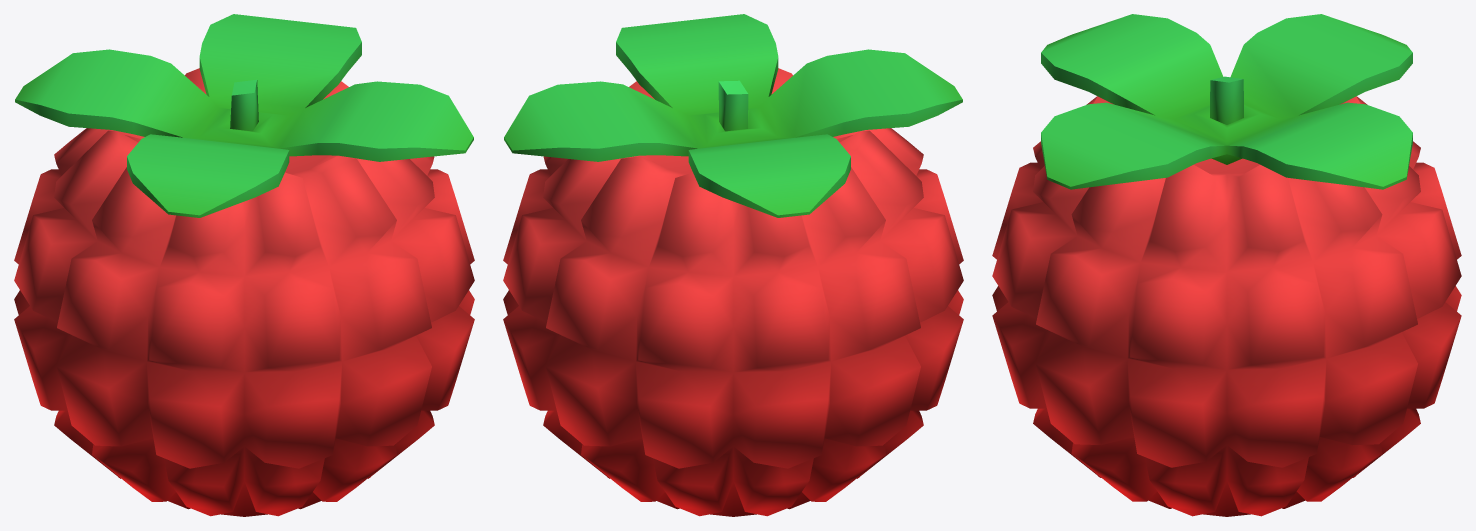
Rendered from raspberry.fbx.
3 views of the same model, side by side, from view 1: azimuth 30°, elevation 25°; view 2: azimuth 150°, elevation 25°; view 3: azimuth 270°, elevation 25° (orthographic).
Parts seen in each view (by area): view 1: raspberry; view 2: raspberry; view 3: raspberry.
Boxes of the visible parts, x1,y1,x2,y2 form: raspberry: [14, 14, 474, 516]; raspberry: [503, 14, 963, 516]; raspberry: [992, 14, 1461, 516].
Size of the model in its own units: 18.86 by 18.14 by 18.86.
